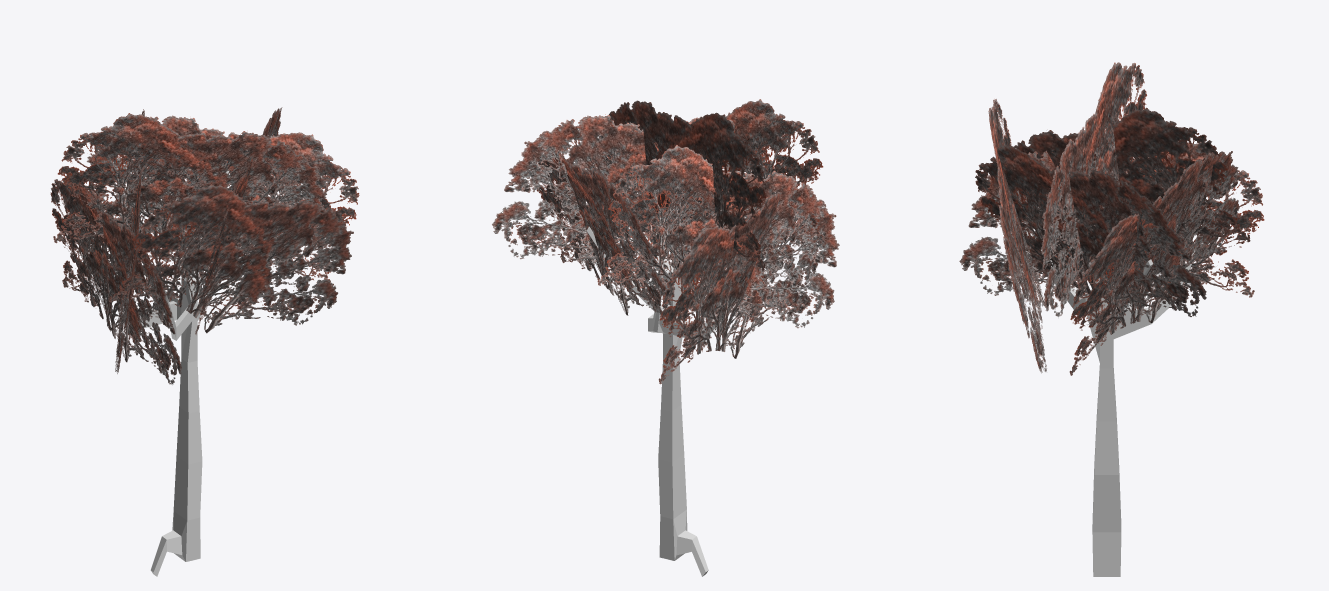
Rendered from Rainbowtree.fbx.
3 renders of one model, left to right at view 1: azimuth 30°, elevation 25°; view 2: azimuth 150°, elevation 25°; view 3: azimuth 270°, elevation 25°, orthographic. The views are drawn at different scales.
Parts seen in each view (by area): view 1: shutterstock_607520570-removebg-preview, shutterstock_607520570-removebg-preview.004, shutterstock_607520570-removebg-preview.005, Cube, shutterstock_607520570-removebg-preview.002, shutterstock_607520570-removebg-preview.001, shutterstock_607520570-removebg-preview.003; view 2: shutterstock_607520570-removebg-preview.003, shutterstock_607520570-removebg-preview.005, shutterstock_607520570-removebg-preview.001, shutterstock_607520570-removebg-preview.004, shutterstock_607520570-removebg-preview.002, Cube, shutterstock_607520570-removebg-preview; view 3: shutterstock_607520570-removebg-preview.001, shutterstock_607520570-removebg-preview.002, shutterstock_607520570-removebg-preview.004, shutterstock_607520570-removebg-preview.003, Cube, shutterstock_607520570-removebg-preview.005, shutterstock_607520570-removebg-preview.
Boxes of the visible parts, left/top/right/bottom form: shutterstock_607520570-removebg-preview: left=109, top=184, right=353, bottom=333; shutterstock_607520570-removebg-preview.004: left=53, top=113, right=327, bottom=278; shutterstock_607520570-removebg-preview.005: left=50, top=175, right=181, bottom=384; Cube: left=139, top=168, right=229, bottom=576; shutterstock_607520570-removebg-preview.002: left=67, top=115, right=359, bottom=285; shutterstock_607520570-removebg-preview.001: left=195, top=107, right=282, bottom=334; shutterstock_607520570-removebg-preview.003: left=115, top=109, right=144, bottom=373; shutterstock_607520570-removebg-preview.003: left=597, top=145, right=839, bottom=330; shutterstock_607520570-removebg-preview.005: left=658, top=191, right=818, bottom=384; shutterstock_607520570-removebg-preview.001: left=492, top=114, right=773, bottom=284; shutterstock_607520570-removebg-preview.004: left=604, top=100, right=766, bottom=270; shutterstock_607520570-removebg-preview.002: left=533, top=136, right=671, bottom=318; Cube: left=587, top=199, right=790, bottom=576; shutterstock_607520570-removebg-preview: left=588, top=99, right=826, bottom=280; shutterstock_607520570-removebg-preview.001: left=975, top=144, right=1206, bottom=319; shutterstock_607520570-removebg-preview.002: left=1069, top=151, right=1239, bottom=375; shutterstock_607520570-removebg-preview.004: left=1041, top=62, right=1146, bottom=317; shutterstock_607520570-removebg-preview.003: left=1011, top=107, right=1250, bottom=273; Cube: left=1022, top=222, right=1201, bottom=576; shutterstock_607520570-removebg-preview.005: left=959, top=142, right=1264, bottom=297; shutterstock_607520570-removebg-preview: left=988, top=99, right=1046, bottom=373.
Bounding box in the file's own units: 1821 × 2590 × 1765.
